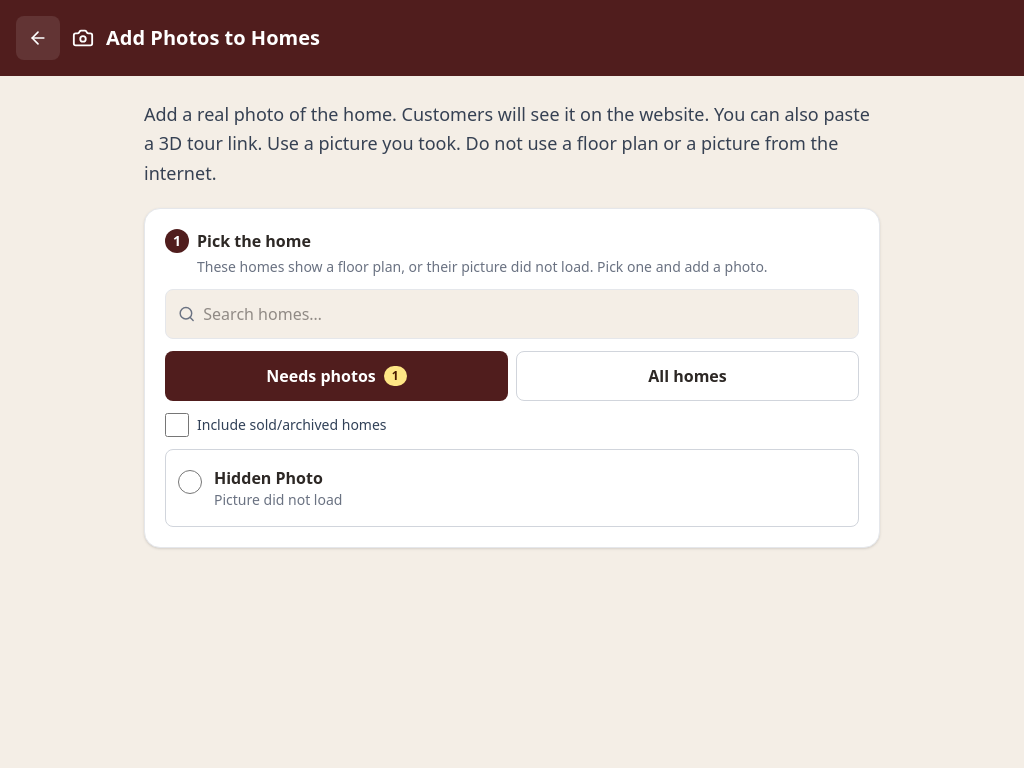
Test: Photo Manager home picker › adds a home to Needs photos when its picture does not load
The width and height of the screenshot is (1024, 768).
Expected: the text "Hidden Photo" is shown, [214,467,323,489]
Expected: the text "Picture did not load" is shown, [214,490,342,509]
Click the radio button labelled "Hidden Photo Picture did not load" at (190, 482), box [178,470,202,494]
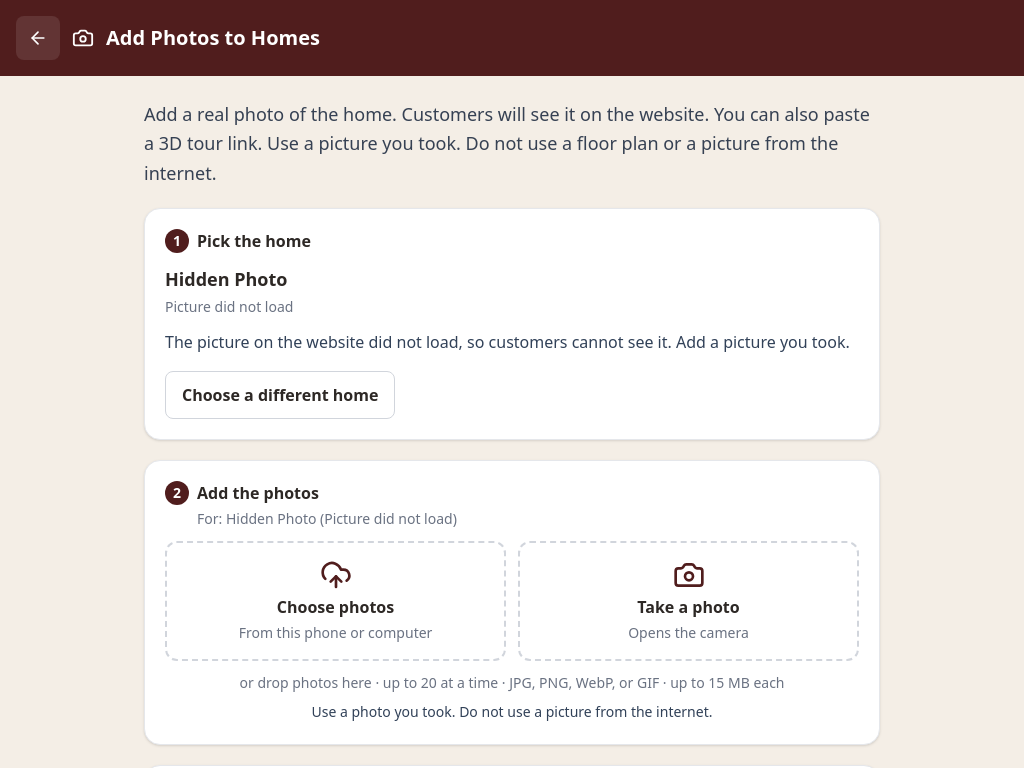
Expected: the text "The picture on the website did not load" is shown, [165,331,850,353]
